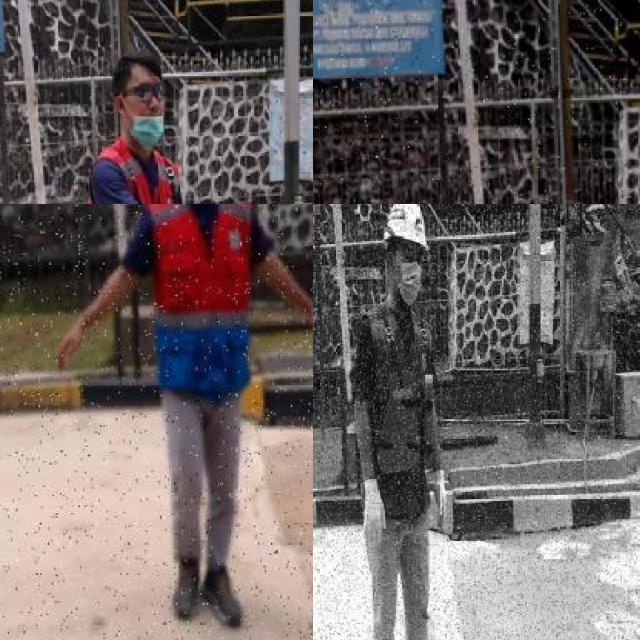apron: (362, 476, 388, 552), (432, 468, 448, 534)
